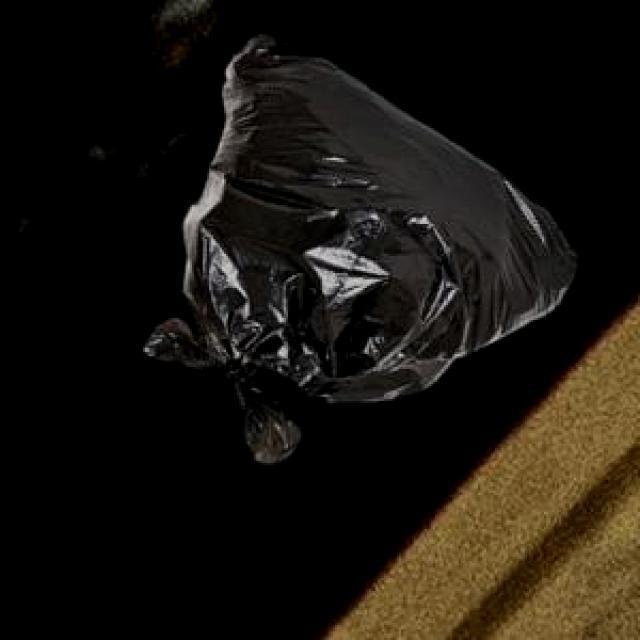Trashbag: (140, 23, 582, 469)
